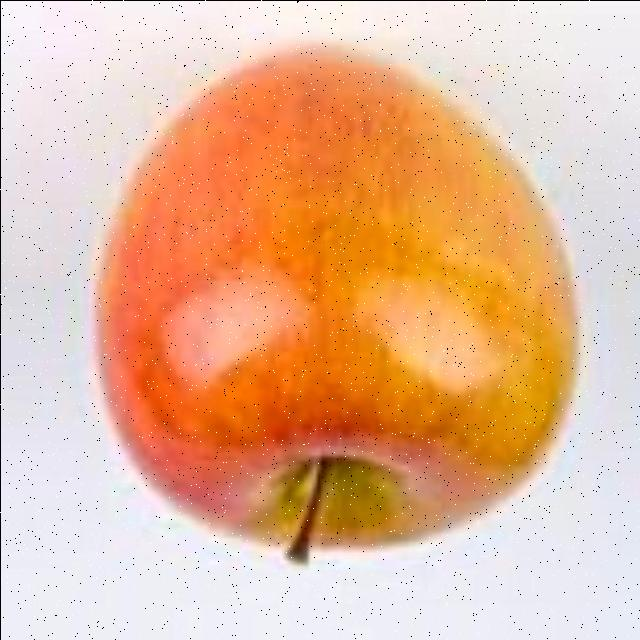HEALTHY: (103, 53, 583, 591)
